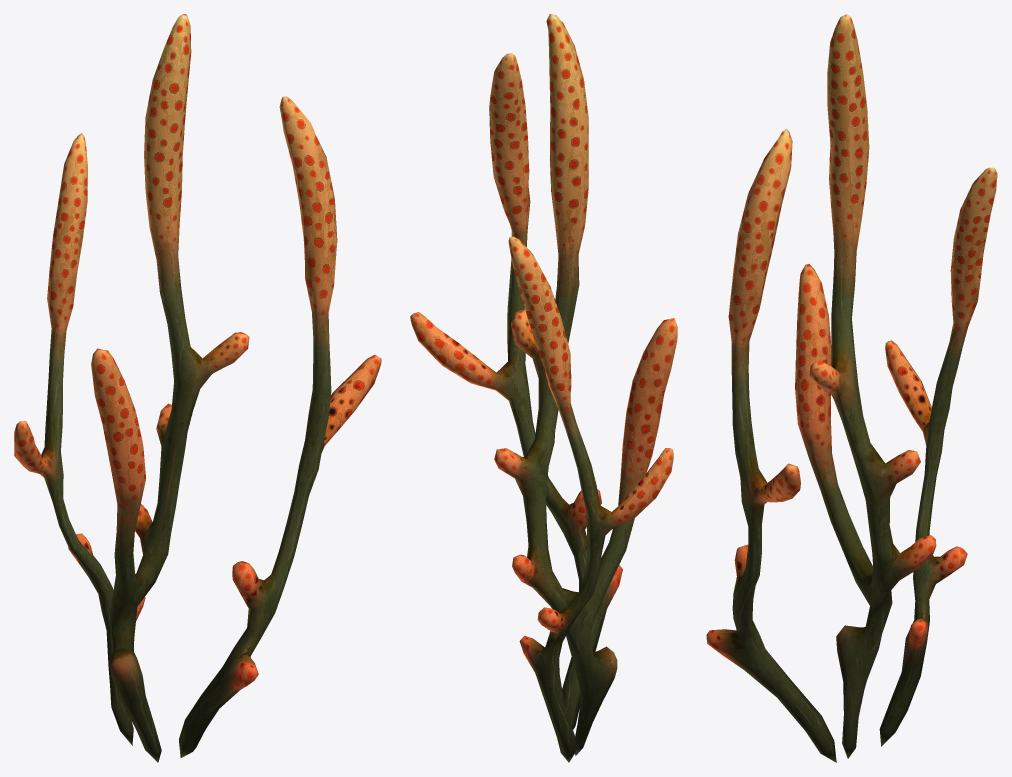
The picture shows the model from 3 angles, left to right: view 1: azimuth 30°, elevation 25°; view 2: azimuth 150°, elevation 25°; view 3: azimuth 270°, elevation 25°; orthographic projection. The views are drawn at different scales.
Visible parts, largest first — view 1: deeplilypads_flower_03_group_b_LOD0__0; view 2: deeplilypads_flower_03_group_b_LOD0__0; view 3: deeplilypads_flower_03_group_b_LOD0__0.
Part boxes in pixels (x1,y1,x2,y2): deeplilypads_flower_03_group_b_LOD0__0: (14,14,381,762); deeplilypads_flower_03_group_b_LOD0__0: (410,14,677,762); deeplilypads_flower_03_group_b_LOD0__0: (706,14,997,762).
Bounding box in the file's own units: 3.42 × 7.74 × 2.7.
Materials: 1 (1 with a texture image).
